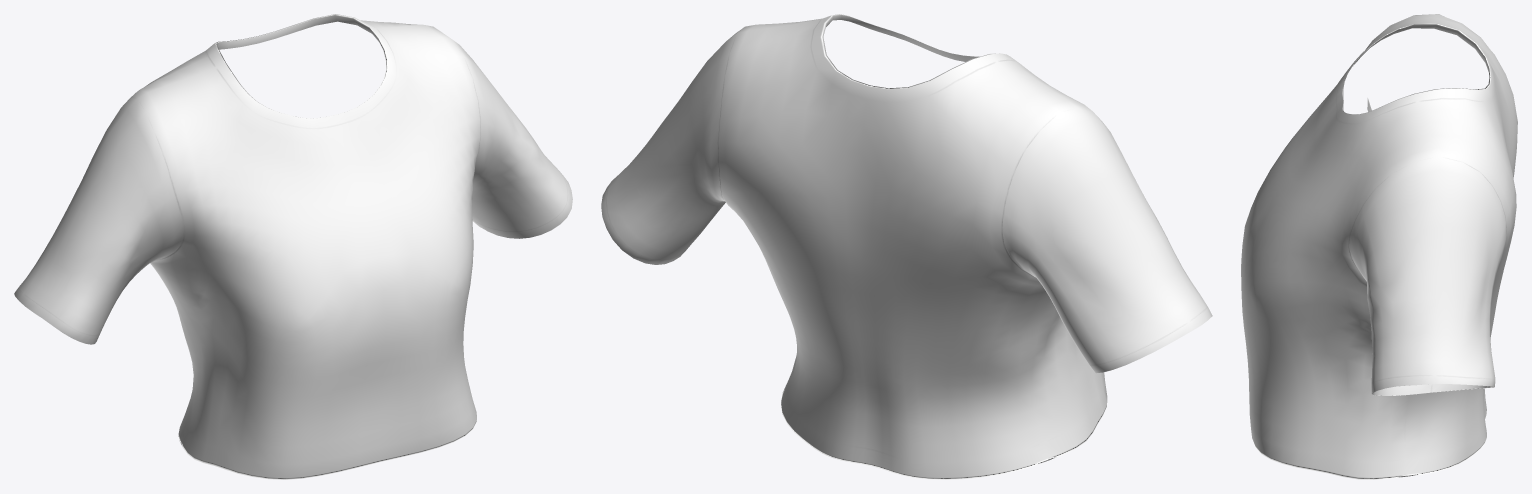
Rendered from crop_top.glb.
The picture shows the model from 3 angles, left to right: view 1: azimuth 30°, elevation 25°; view 2: azimuth 150°, elevation 25°; view 3: azimuth 270°, elevation 25°; orthographic projection. The views are drawn at different scales.
Parts seen in each view (by area): view 1: Top_Low_obj; view 2: Top_Low_obj; view 3: Top_Low_obj.
Boxes of the visible parts, x1,y1,x2,y2 form: Top_Low_obj: (14, 14, 572, 479); Top_Low_obj: (601, 14, 1212, 479); Top_Low_obj: (1241, 14, 1517, 479).
Bounding box in the file's own units: 0.5335 × 0.3545 × 0.2406.
Materials: 1 (1 with a texture image).
